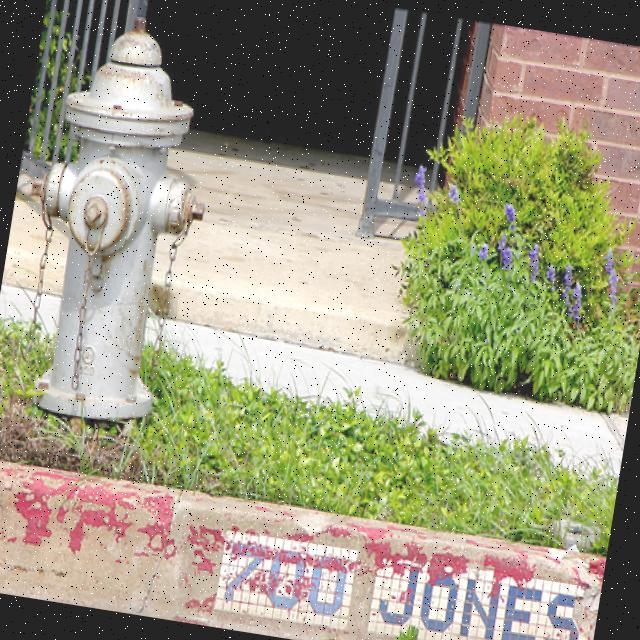fire_hydrant: (0, 7, 233, 431)
